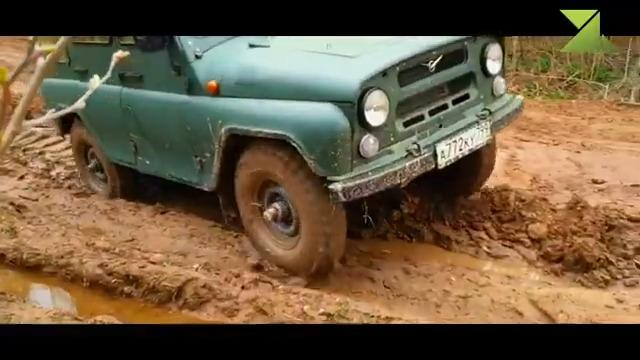MIL_HMMWV: (39, 36, 525, 280)
